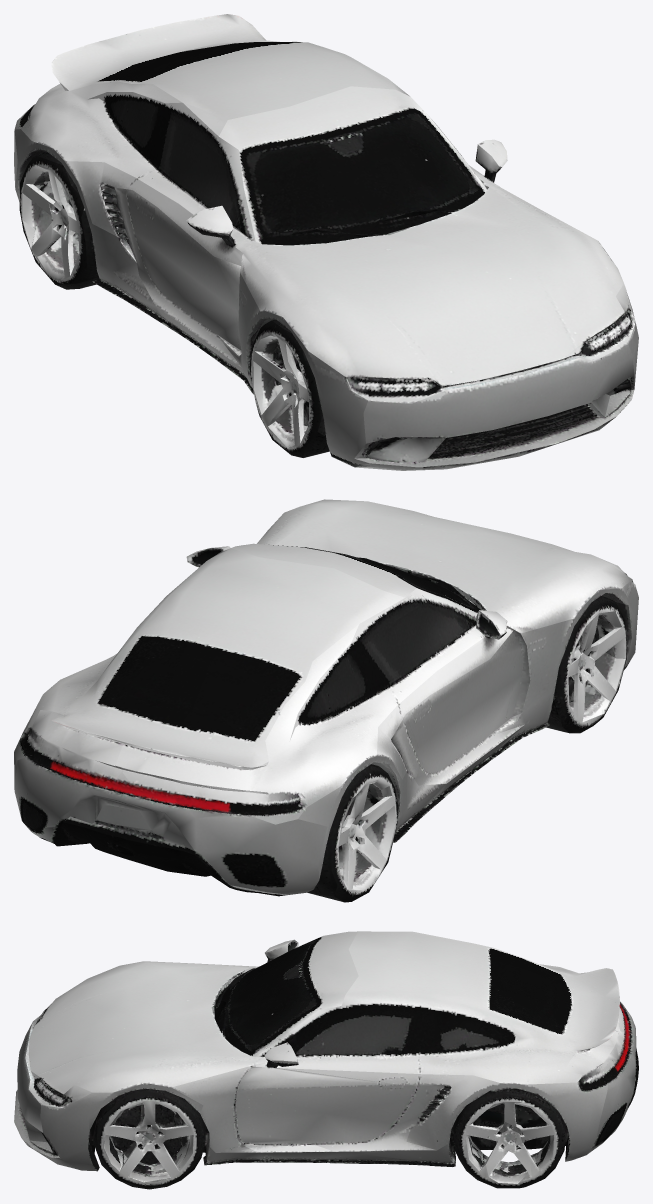
The model's file is euro_lod.glb.
3 renders of one model, top to bottom at view 1: azimuth 30°, elevation 25°; view 2: azimuth 150°, elevation 25°; view 3: azimuth 270°, elevation 25°, orthographic. The views are drawn at different scales.
Visible parts, largest first — view 1: geometry_0; view 2: geometry_0; view 3: geometry_0.
Boxes of the visible parts, left/top/right/bottom form: geometry_0: left=14, top=14, right=638, bottom=470; geometry_0: left=14, top=499, right=638, bottom=902; geometry_0: left=14, top=931, right=638, bottom=1189.
Size of the model in its own units: 0.4597 by 0.3086 by 1.
1 material, 1 textured.
